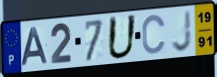2: (49, 22, 73, 67)
7: (84, 17, 104, 62)
A: (20, 26, 50, 68)
C: (141, 13, 167, 56)
J: (170, 9, 193, 54)
U: (106, 14, 138, 62)
